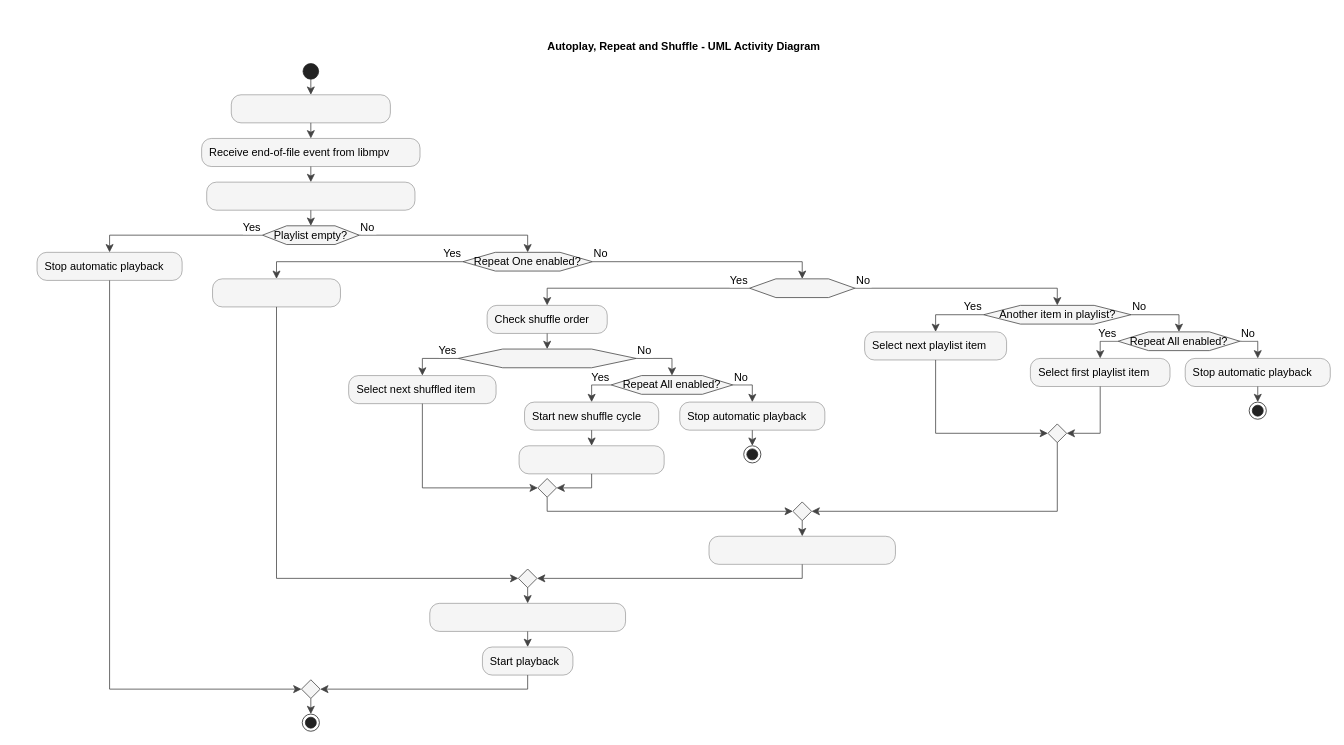
This 1344x745 diagram has some shape labels left out. Each missing label, with the centre of its shape:
Another item in shuffle order?: pixel 546 358
Check playlist and playback settings: pixel 310 196
Current media reaches end: pixel 310 108
Load selected media using libmpv: pixel 527 617
Replay current media: pixel 276 292
Select first shuffled item: pixel 591 459
Shuffle enabled?: pixel 802 288
Update current playlist selection: pixel 801 550
